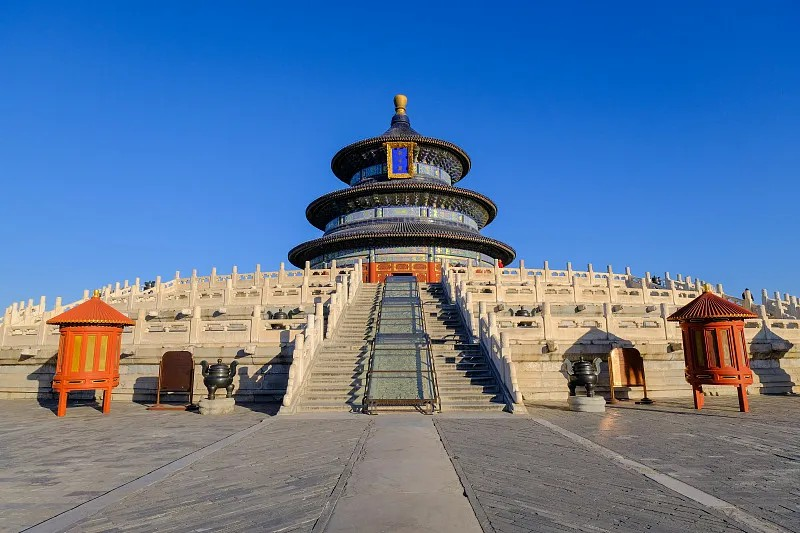Heaven: (287, 95, 517, 285)
